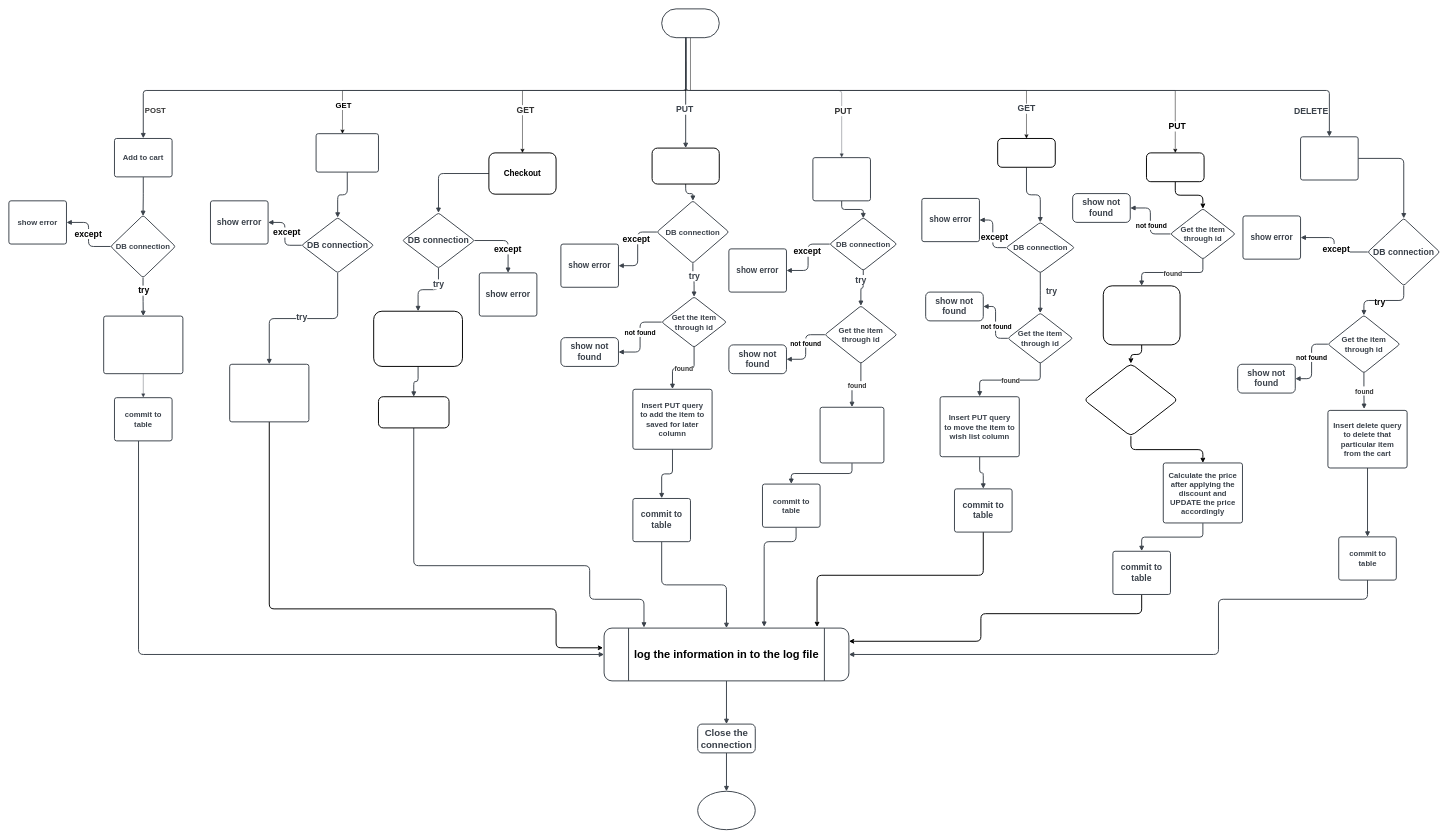
Image size: 1448x838. Some labels were removed from this diagram. The shapes that lost their labels are listed below. From the top down, each one's box as (x1, y1, x2, y2) in pixels, then its label:
(661, 8, 720, 38): Start
(315, 133, 379, 172): Get all items in the cart
(651, 147, 720, 184): Saved for later
(997, 138, 1056, 168): Saved in wish list
(1146, 152, 1204, 182): Get discount
(1300, 136, 1358, 180): Delete item from the cart
(812, 157, 871, 201): Update item details
(1103, 285, 1180, 345): Get the discount code from the user
(103, 315, 183, 374): get all the information from the user and update the table
(373, 311, 463, 367): Calculate the total price of all the items in the cart
(229, 364, 309, 422): Insert get query to show all items in the cart
(378, 396, 449, 428): Return the total price
(1083, 363, 1178, 436): Check whether the discount code is correct
(819, 407, 884, 463): update the item details like quantity, delete, update, add
(697, 791, 756, 830): STOP
